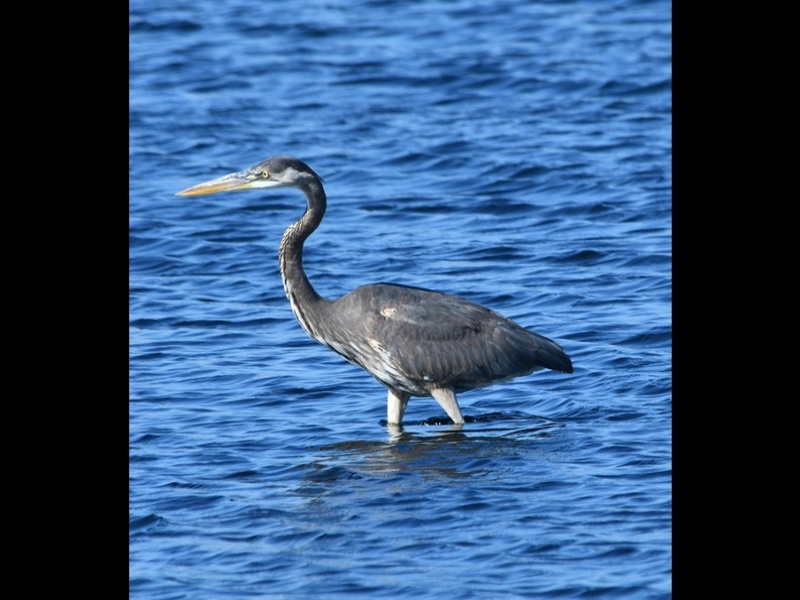heron: (175, 153, 574, 438)
